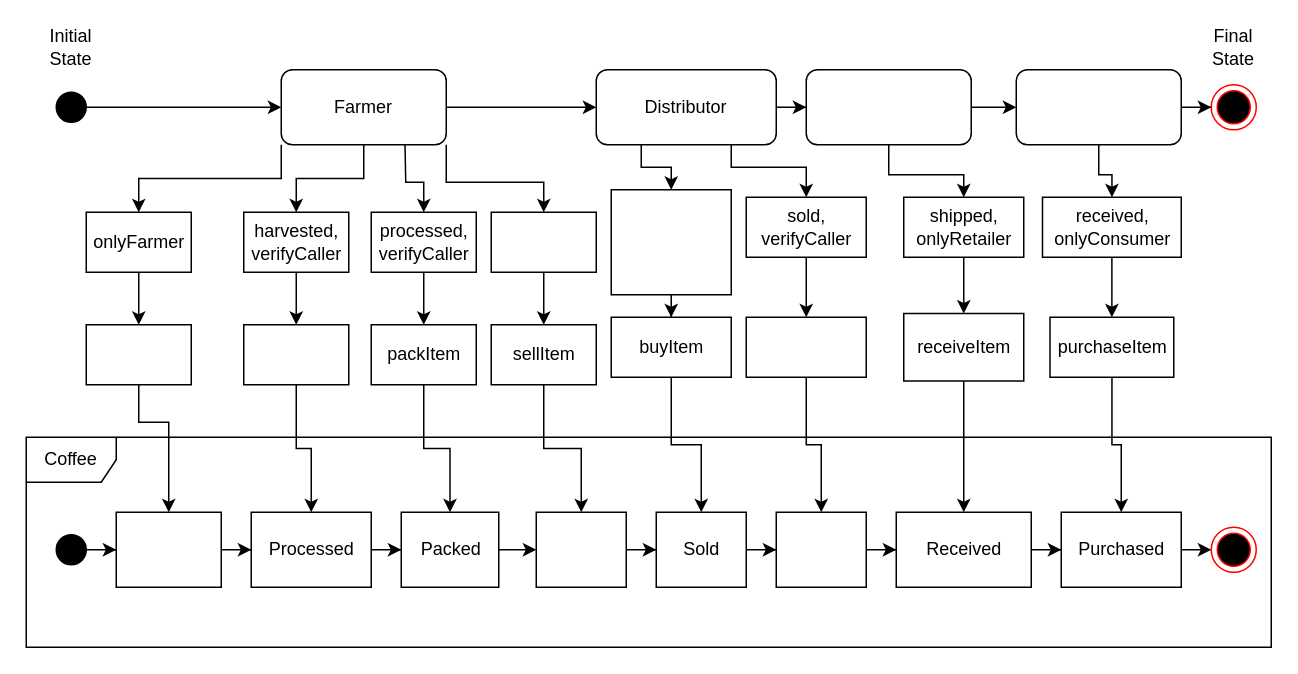
The diagram is 1298 pixels wide and 674 high, and some of its shapes have lost their labels. Each missing label, with the centre of its shape:
"Consumer" belongs at point (1098, 106).
"For Sale" belongs at point (580, 549).
"forSale, paidEnough checkValue, onlyDistributor" belongs at point (670, 241).
"Harvested" belongs at point (168, 549).
"harvestItem" belongs at point (138, 354).
"packed, verifyCaller" belongs at point (543, 241).
"processItem" belongs at point (295, 354).
"Retailer" belongs at point (888, 106).
"shipItem" belongs at point (805, 346).
"Shipped" belongs at point (820, 549).
